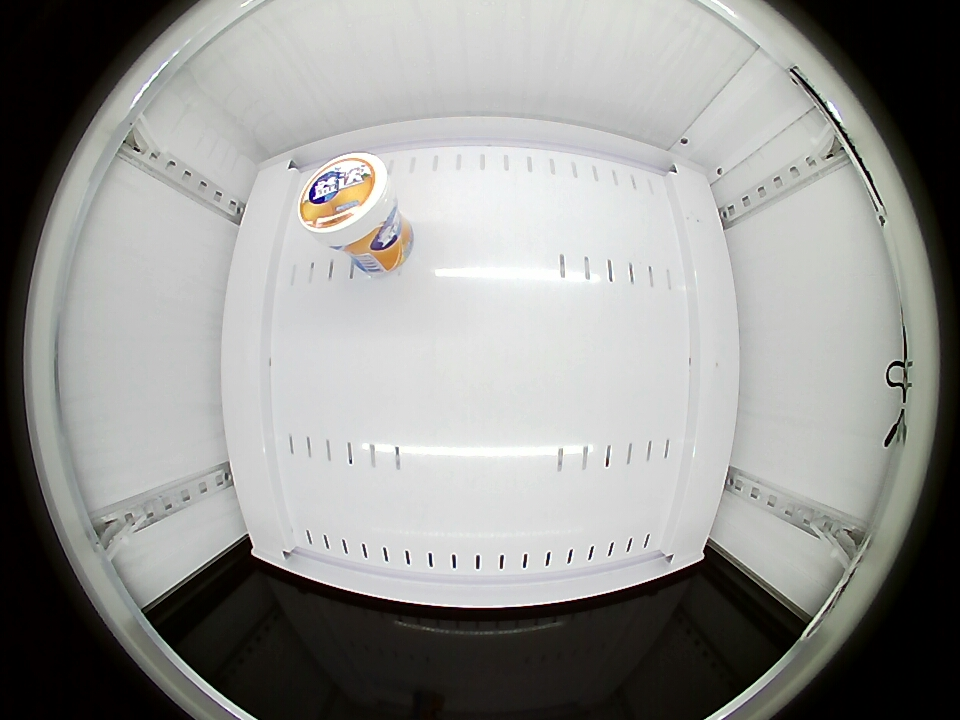yida: (297, 152, 396, 247)
